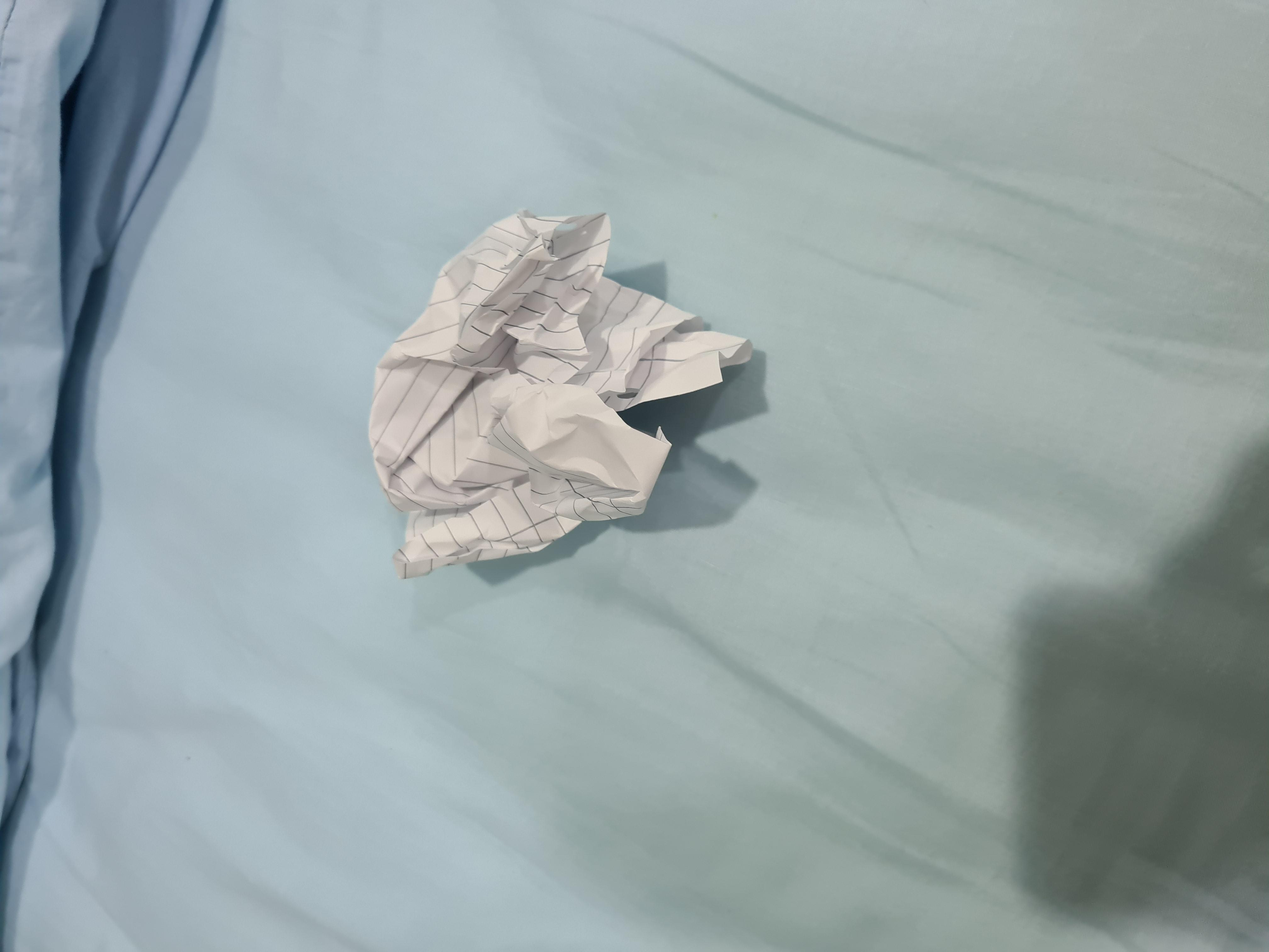paper: (514, 270, 1003, 548)
